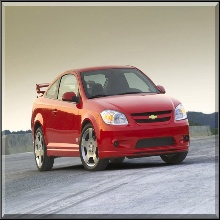no damage: (30, 64, 191, 172)
